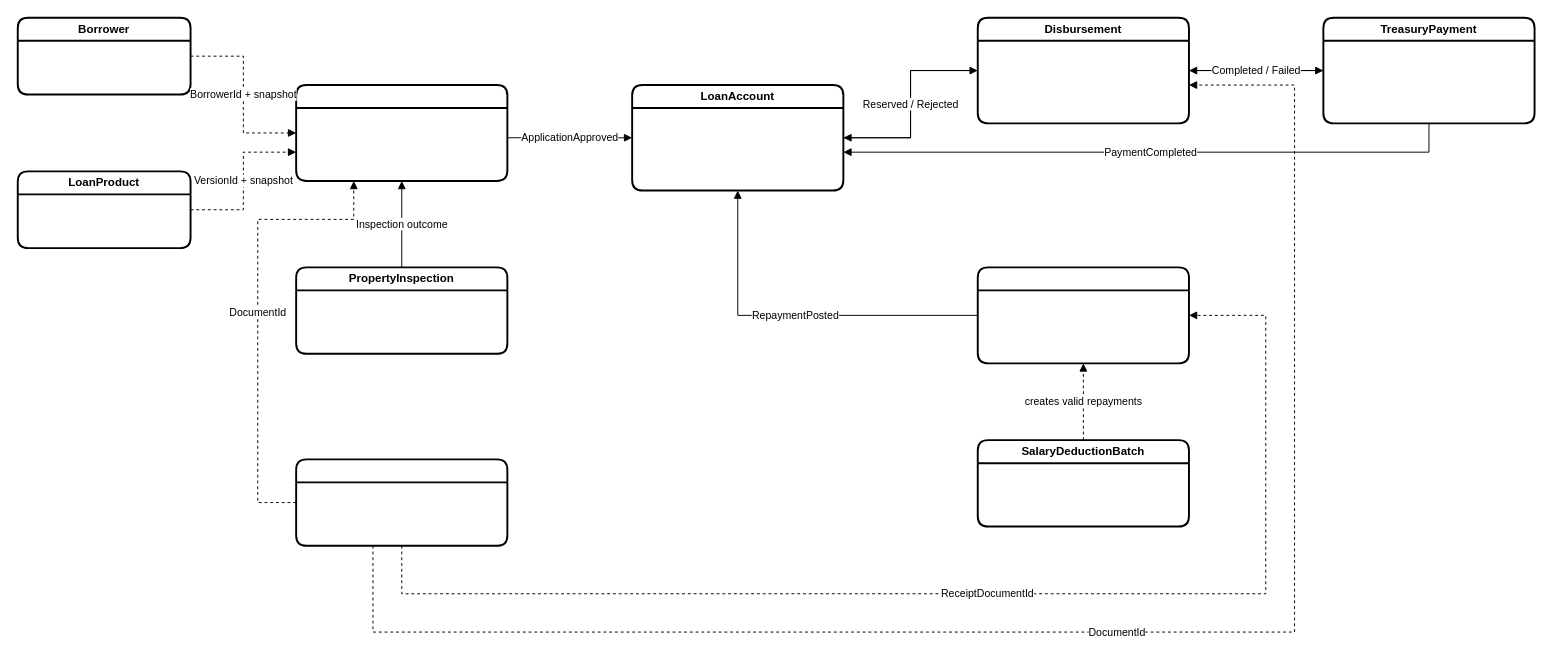
Image size: 1551x657. Some labels were removed from this diagram. The centre of each missing label's shape, as x and y in pixels:
"Document" goes at [401,502].
"LoanApplication" goes at [401,132].
"Repayment" goes at [1082,315].
